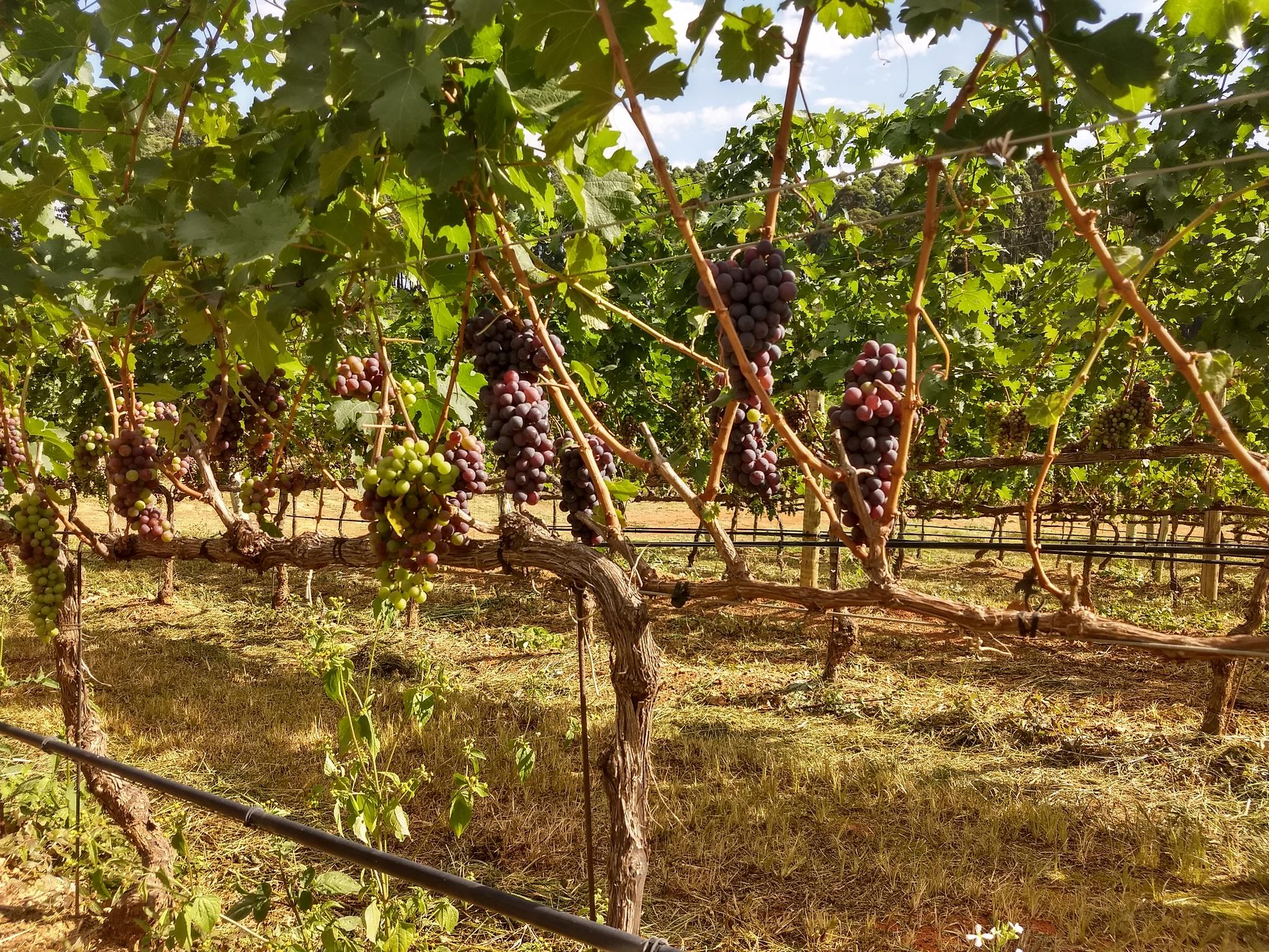Grape Ripe: (711, 240, 797, 392), (480, 371, 555, 505), (465, 311, 550, 379), (719, 328, 756, 405)
Grape Unripe: (828, 340, 908, 543), (366, 437, 442, 610), (8, 491, 66, 643), (105, 423, 172, 543), (558, 428, 617, 546), (721, 388, 780, 500), (335, 356, 383, 407), (240, 474, 275, 511)
